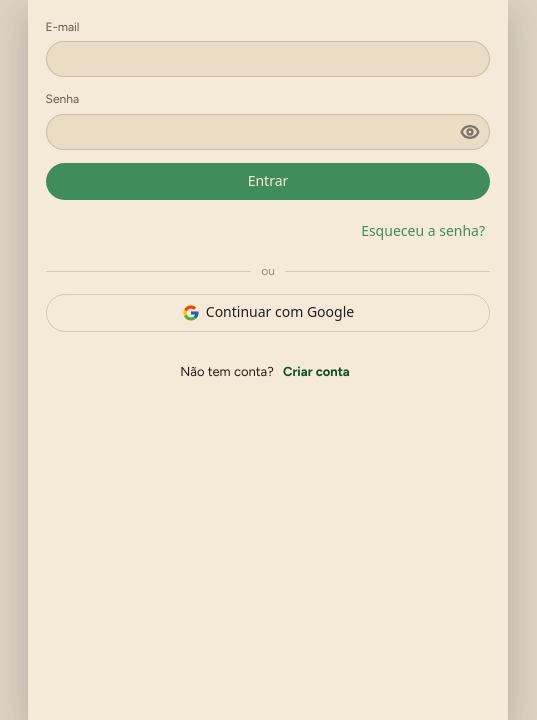
clicking the create-account link switches to signup mode
Click the button "Criar conta" at {"x": 316, "y": 372}, box [277,364,356,380]
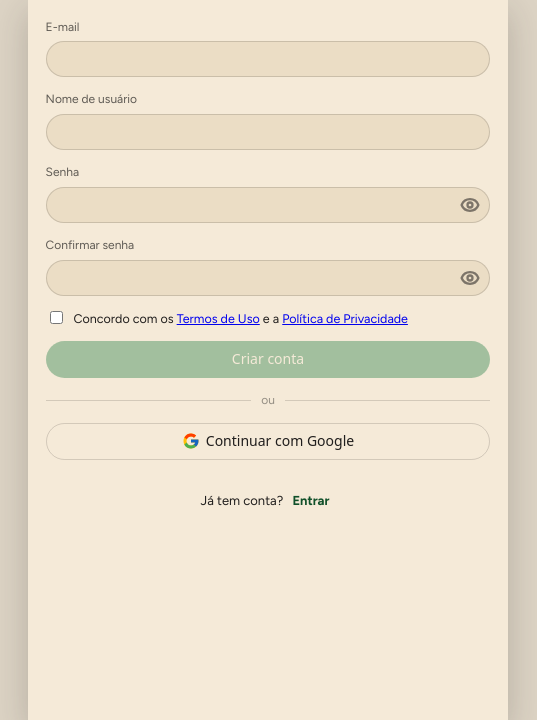
Check: the field labelled "Nome de usuário" is shown, box [46,114,490,150]
